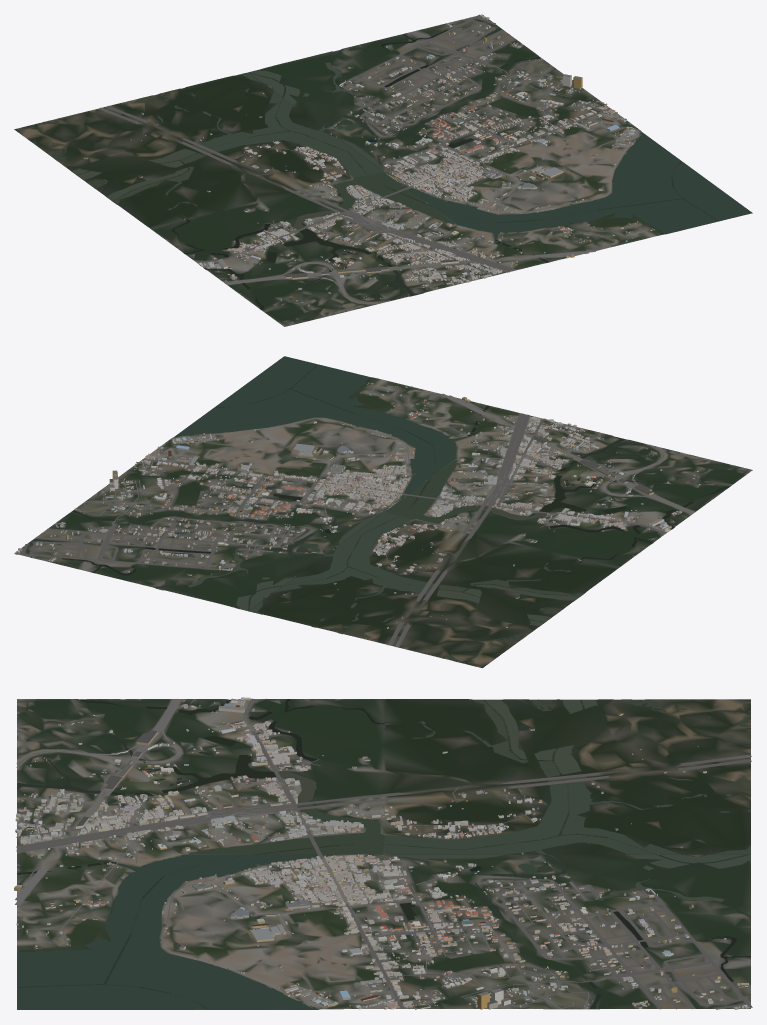
3 views of the same model, one above another, from view 1: azimuth 30°, elevation 25°; view 2: azimuth 150°, elevation 25°; view 3: azimuth 270°, elevation 25° (orthographic). The views are drawn at different scales.
Visible parts, largest first — view 1: ground, water, buildings, roads; view 2: ground, water, buildings, roads; view 3: ground, water, buildings, roads.
Boxes of the visible parts, left/top/right/bottom form: ground: left=14, top=16, right=752, bottom=326; water: left=35, top=18, right=751, bottom=309; buildings: left=83, top=14, right=654, bottom=314; roads: left=98, top=14, right=655, bottom=303; ground: left=14, top=359, right=752, bottom=668; water: left=31, top=356, right=728, bottom=662; buildings: left=16, top=382, right=709, bottom=636; roads: left=15, top=379, right=694, bottom=647; ground: left=17, top=699, right=750, bottom=1009; water: left=17, top=699, right=750, bottom=1009; buildings: left=14, top=697, right=749, bottom=1009; roads: left=15, top=698, right=752, bottom=1009.
Size of the model in its own units: 2811 by 62.82 by 2820.
